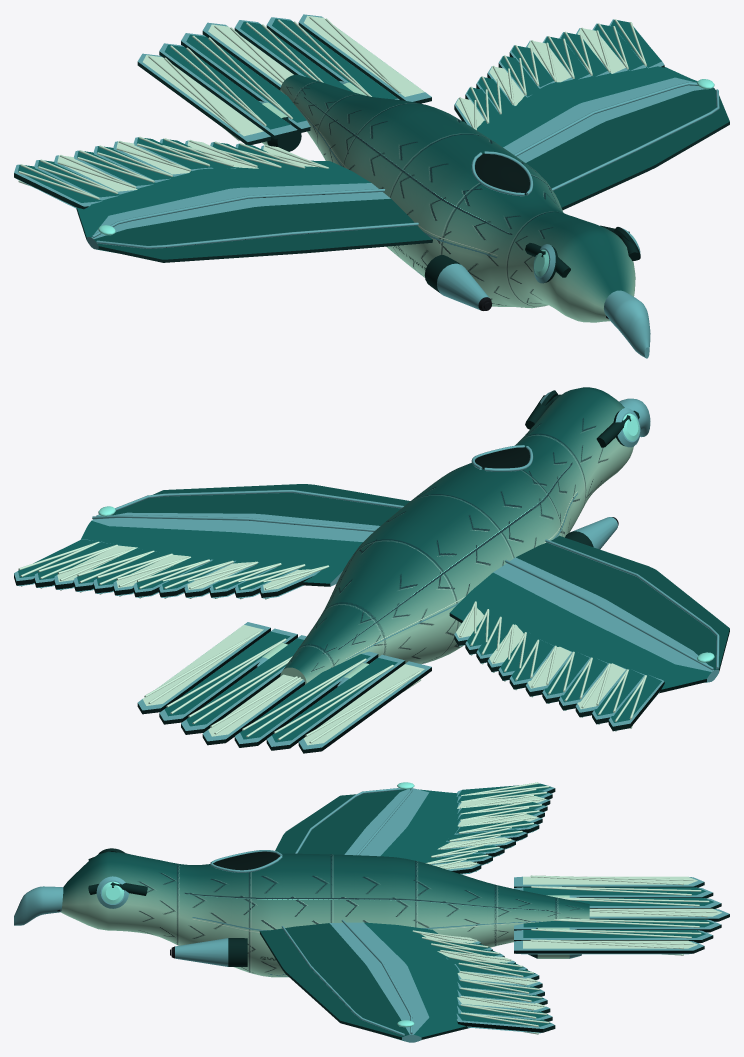
3 renders of one model, top to bottom at view 1: azimuth 30°, elevation 25°; view 2: azimuth 150°, elevation 25°; view 3: azimuth 270°, elevation 25°, orthographic. The views are drawn at different scales.
Visible parts, largest first — view 1: shrike_hull; view 2: shrike_hull; view 3: shrike_hull.
Boxes of the visible parts, x1,y1,x2,y2 form: shrike_hull: [14, 14, 729, 358]; shrike_hull: [14, 387, 729, 753]; shrike_hull: [14, 782, 729, 1042].
Bounding box in the file's own units: 13.49 × 2.96 × 16.5.
Materials: 1 (1 with a texture image).
